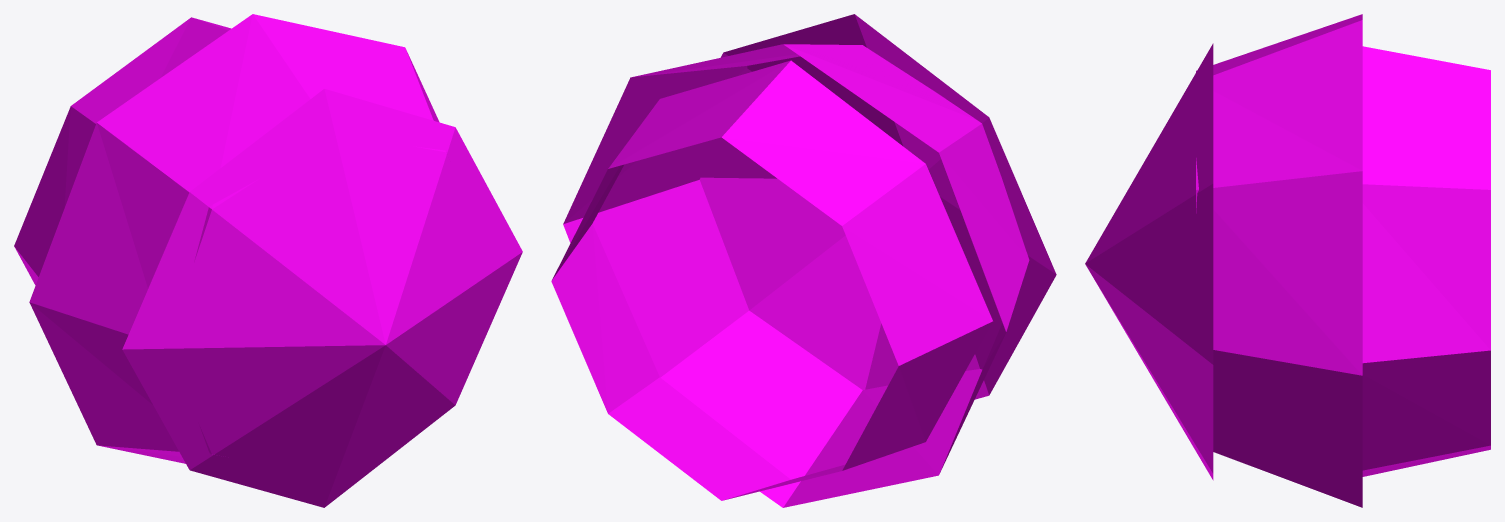
Rendered from bush1.obj.
3 views of the same model, side by side, from view 1: azimuth 30°, elevation 25°; view 2: azimuth 150°, elevation 25°; view 3: azimuth 270°, elevation 25° (orthographic). The views are drawn at different scales.
Visible parts, largest first — view 1: bush1; view 2: bush1; view 3: bush1.
Boxes of the visible parts, x1,y1,x2,y2 form: bush1: (14, 14, 522, 507); bush1: (551, 14, 1056, 507); bush1: (1085, 14, 1490, 507).
Size of the model in its own units: 1.25 by 1.25 by 0.95.
